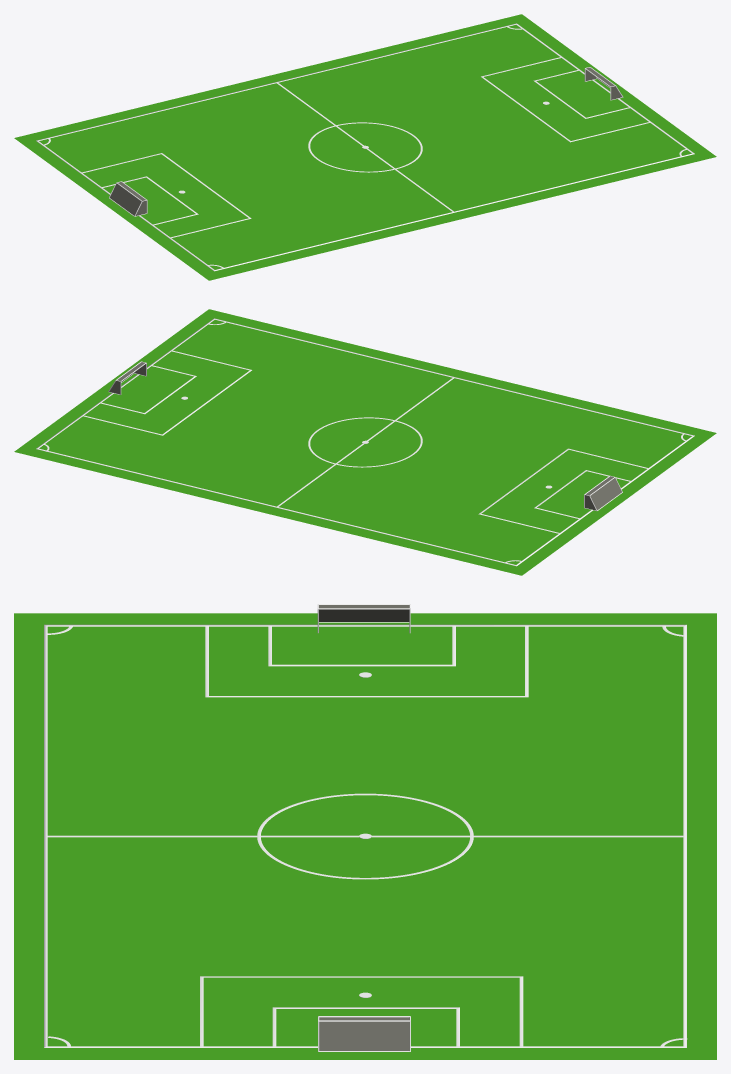
The model's file is football line.FBX.
3 views of the same model, one above another, from view 1: azimuth 30°, elevation 25°; view 2: azimuth 150°, elevation 25°; view 3: azimuth 270°, elevation 25° (orthographic). The views are drawn at different scales.
Parts seen in each view (by area): view 1: Plane01, Rectangle01, Line01, Box03; view 2: Plane01, Rectangle01, Line01, Box03; view 3: Plane01, Line01, Rectangle01, Box02, Box03.
Part boxes in pixels (x1,y1,x2,y2): Plane01: (14,14,716,280); Rectangle01: (36,23,694,271); Line01: (44,26,686,267); Box03: (109,182,146,215); Plane01: (14,309,716,575); Rectangle01: (36,318,694,566); Line01: (44,322,685,562); Box03: (585,476,621,510); Plane01: (14,613,716,1059); Line01: (47,626,687,1046); Rectangle01: (44,624,686,1047); Box02: (319,1017,409,1050); Box03: (319,605,409,621).
Bounding box in the file's own units: 41.46 × 1.08 × 27.57.
